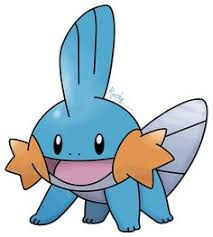mudkip: (3, 5, 208, 233)
